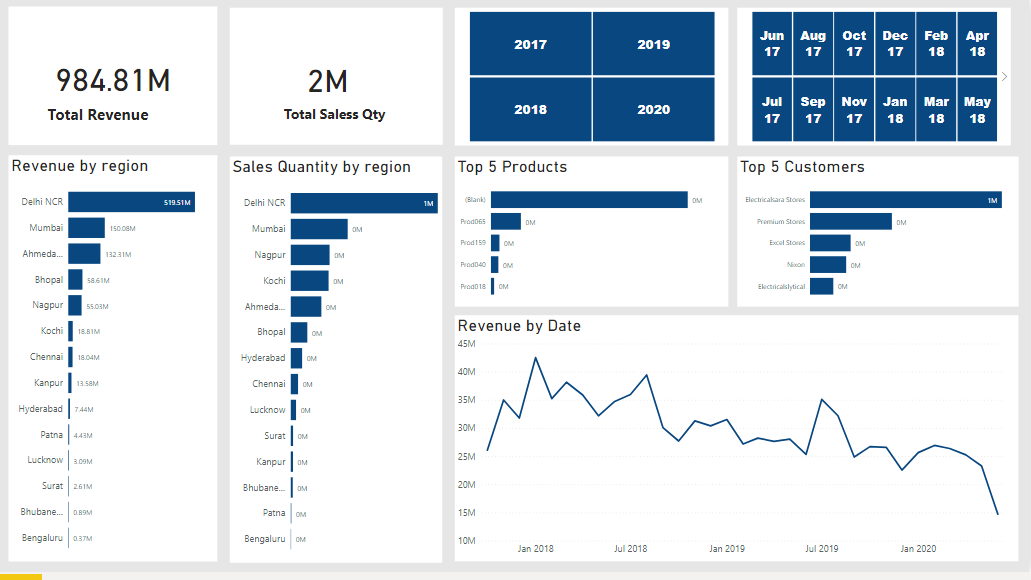

What the dashboard file says about the page in this screenshot:
{"tool":"powerbi","page":{"name":"Sales Insights","canvas":[1800,1000],"ordinal":0},"visuals":[{"type":"card","fields":{"Values":["BaseMeasures.Revenue"]},"box":[21.8,13.1,363.8,241.8],"z":0,"group":"g1"},{"type":"card","fields":{"Values":["BaseMeasures.Sales Qty"]},"box":[407.4,15.3,342,239.7],"z":0,"group":"g2"},{"type":"textbox","box":[495.9,179.5,281.8,50.2],"z":1000,"group":"g2"},{"type":"textbox","box":[85.9,176.6,235.7,50.7],"z":1001,"group":"g1"},{"type":"barChart","title":"Revenue by region","fields":{"Category":["sales markets.markets_name"],"Y":["BaseMeasures.Revenue"]},"box":[21.8,272.3,363.8,708.1],"z":2000},{"type":"group","id":"g1","title":"Group 1","box":[21.8,13.1,363.8,241.8],"z":3000},{"type":"group","id":"g2","title":"Group 2","box":[407.4,15.3,370.4,239.7],"z":3001},{"type":"barChart","title":"Sales Quantity by region","fields":{"Category":["sales markets.markets_name"],"Y":["BaseMeasures.Sales Qty"]},"box":[407.4,274.5,370.4,708.1],"z":3002},{"type":"slicer","fields":{"Values":["sales date.year"]},"box":[799.6,15.3,477.1,239.7],"z":3003},{"type":"barChart","title":"Top 5 Customers","fields":{"Category":["sales customers.custmer_name"],"Y":["BaseMeasures.Sales Qty"]},"box":[1291.9,274.5,490.2,261.4],"z":3004},{"type":"barChart","title":"Top 5 Products","fields":{"Category":["sales products.product_code"],"Y":["BaseMeasures.Sales Qty"]},"box":[799.6,274.5,477.1,261.4],"z":3005},{"type":"lineChart","title":"Revenue by Date","fields":{"Category":["sales date.cy_date"],"Y":["BaseMeasures.Revenue"]},"box":[799.6,551.2,982.6,429.2],"z":3006},{"type":"slicer","fields":{"Values":["sales date.cy_date"]},"box":[1291.9,15.3,477.1,239.7],"z":3007}]}

Visuals, with their boxes in screenshot pixels (x1, y1, x2, y2), scaled from the page's 1800x1000 canvas onto the 1031x580 screenshot:
card - BaseMeasures.Revenue: region(12, 8, 221, 148)
card - BaseMeasures.Sales Qty: region(233, 9, 429, 148)
textbox: region(284, 104, 445, 133)
textbox: region(49, 102, 184, 132)
"Revenue by region" barChart: region(12, 158, 221, 569)
"Group 1" group: region(12, 8, 221, 148)
"Group 2" group: region(233, 9, 446, 148)
"Sales Quantity by region" barChart: region(233, 159, 446, 570)
slicer - sales date.year: region(458, 9, 731, 148)
"Top 5 Customers" barChart: region(740, 159, 1021, 311)
"Top 5 Products" barChart: region(458, 159, 731, 311)
"Revenue by Date" lineChart: region(458, 320, 1021, 569)
slicer - sales date.cy_date: region(740, 9, 1013, 148)
